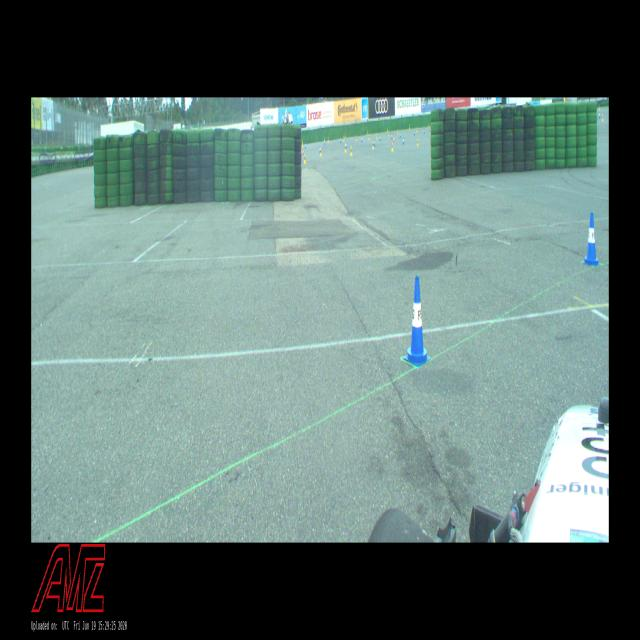blue_cone: (404, 275, 431, 368), (582, 212, 600, 267), (402, 136, 404, 146), (361, 136, 363, 144), (391, 133, 393, 140), (379, 135, 381, 142), (598, 112, 600, 119), (423, 129, 425, 135), (324, 140, 326, 145), (374, 138, 375, 148), (346, 141, 347, 150), (340, 136, 341, 144), (305, 143, 306, 150), (400, 132, 401, 138), (414, 130, 415, 136), (320, 145, 320, 154)
orange_cone: (302, 149, 304, 156), (393, 136, 395, 143)
yellow_cone: (391, 142, 394, 152), (350, 146, 352, 157), (304, 153, 306, 164), (372, 140, 374, 150), (416, 138, 418, 147), (602, 113, 604, 122), (344, 144, 346, 153), (327, 136, 329, 144), (320, 148, 322, 156), (368, 134, 370, 141), (416, 127, 418, 133), (397, 129, 399, 135), (428, 122, 430, 128), (376, 134, 378, 139), (302, 140, 303, 148), (343, 136, 344, 142), (388, 131, 389, 137), (356, 135, 357, 141), (409, 124, 410, 130), (599, 105, 600, 111), (387, 127, 388, 132), (345, 134, 346, 138), (368, 131, 368, 135)
